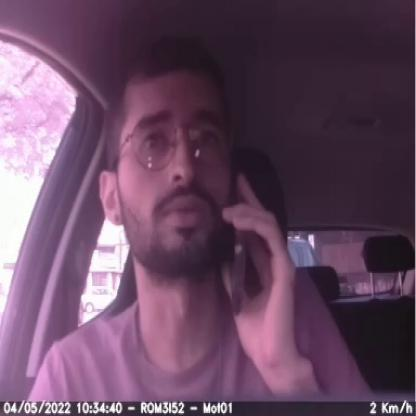phone: (223, 176, 262, 330)
